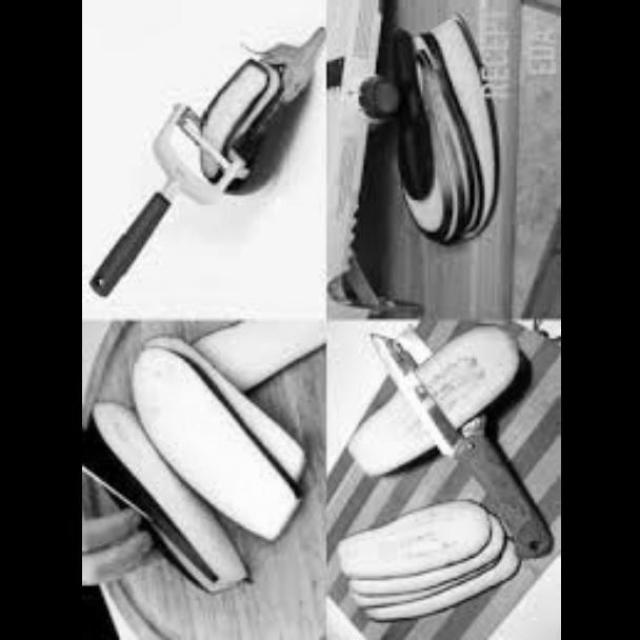eggplant: (80, 345, 295, 586), (372, 7, 514, 256), (188, 1, 348, 210), (358, 325, 528, 492), (338, 471, 518, 626)
